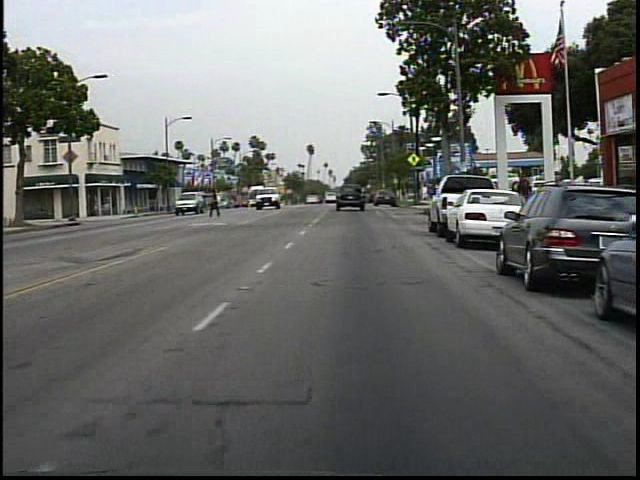person: (511, 169, 539, 225), (208, 185, 226, 220)
